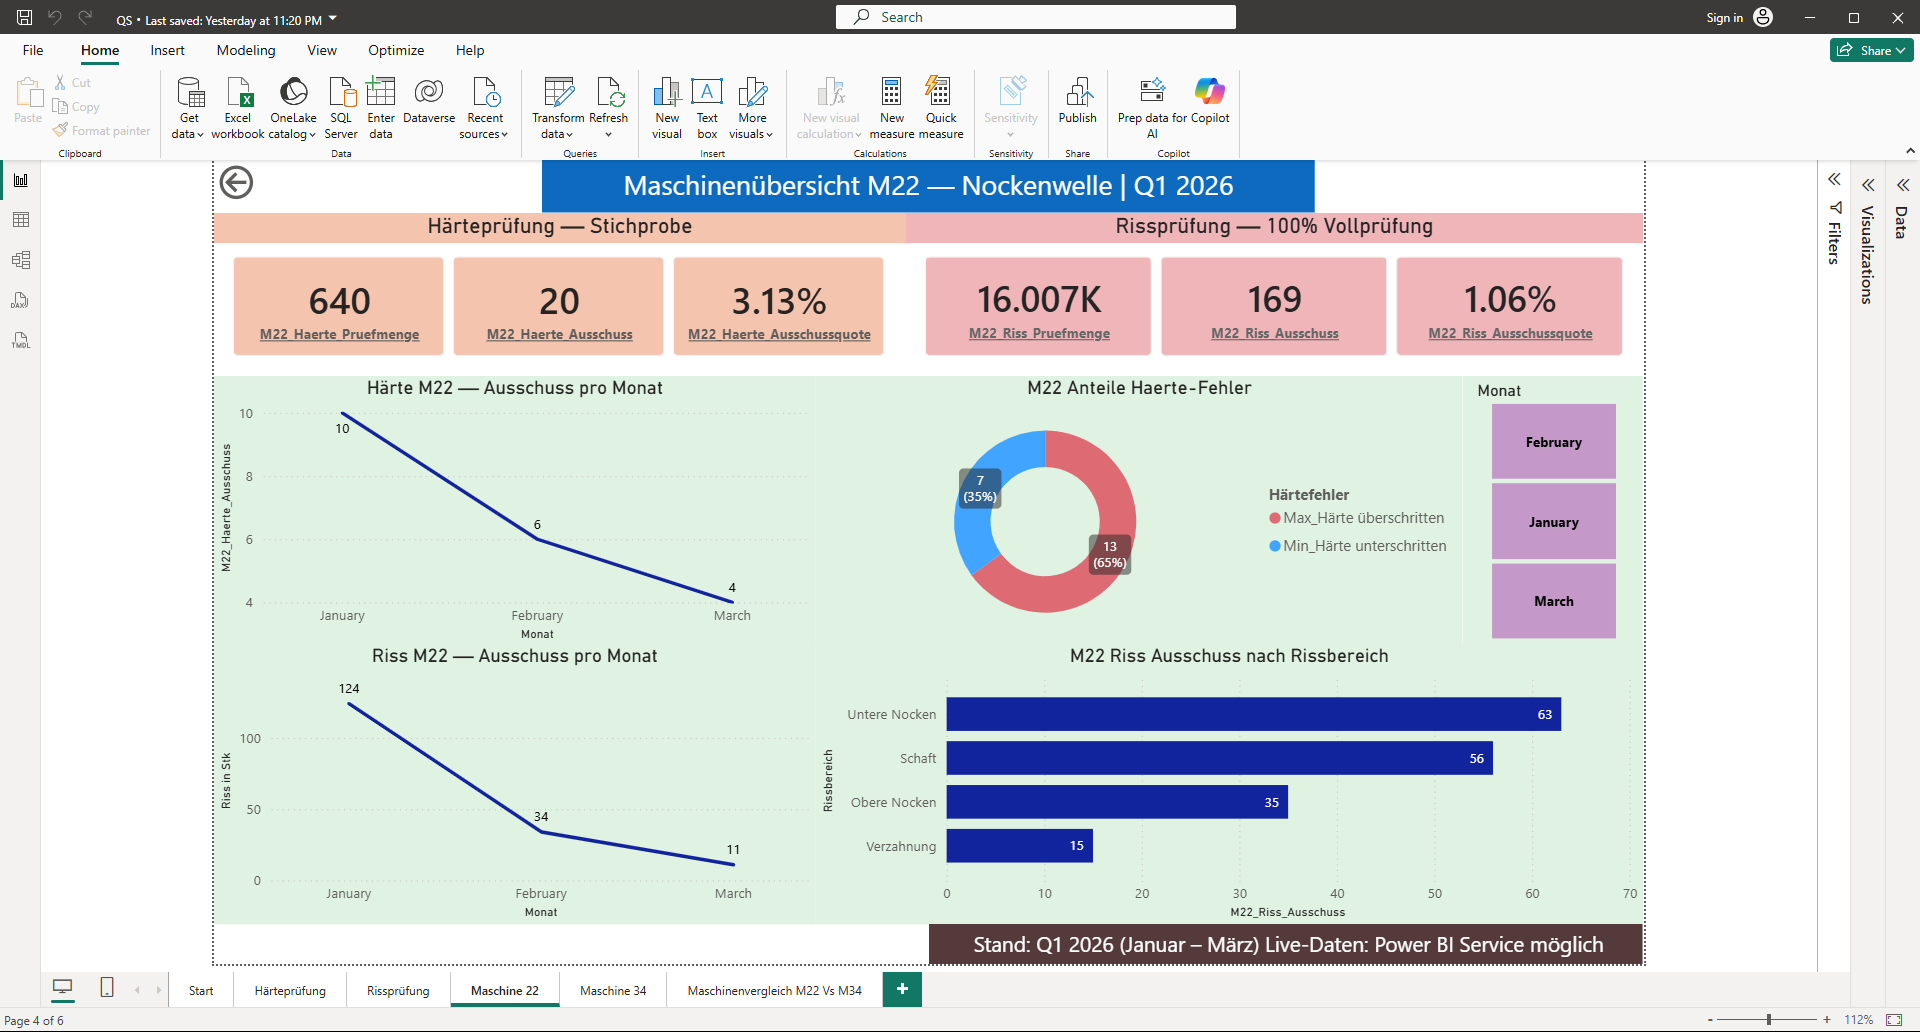

The dashboard page shown, as its layout file describes it:
{"tool":"powerbi","page":{"name":"Maschine 22","canvas":[1280,720],"ordinal":3},"visuals":[{"type":"textbox","box":[293.7,0,692.2,47.5],"z":0},{"type":"cardVisual","title":"Härteprüfung — Stichprobe","fields":{"Data":["Datumstabelle.M22_Haerte_Pruefmenge","Datumstabelle.M22_Haerte_Ausschuss","Datumstabelle.M22_Haerte_Ausschussquote"]},"box":[0,47.5,619.7,146],"z":1000},{"type":"cardVisual","title":"Rissprüfung — 100% Vollprüfung","fields":{"Data":["Datumstabelle.M22_Riss_Pruefmenge","Datumstabelle.M22_Riss_Ausschuss","Datumstabelle.M22_Riss_Ausschussquote"]},"box":[619.7,47.5,660,146],"z":2000},{"type":"lineChart","title":"Härte M22 — Ausschuss pro Monat","fields":{"Category":["Datumstabelle.Date.Variation.Date Hierarchy.Month"],"Y":["Datumstabelle.M22_Haerte_Ausschuss"]},"box":[0,193.4,539.1,241.8],"z":3000},{"type":"lineChart","title":"Riss M22 — Ausschuss pro Monat","fields":{"Y":["Datumstabelle.M22_Riss_Ausschuss"],"Category":["Datumstabelle.Date.Variation.Date Hierarchy.Month"]},"box":[0.3,433.4,539.1,250.7],"z":4000},{"type":"donutChart","title":"M22 Anteile Haerte-Fehler","fields":{"Category":["Härteanlage_M22.n.i.o. Härte_Beschreibung"],"Y":["Datumstabelle.M22_Haerte_Ausschuss"]},"box":[539.1,193.4,579.4,241.8],"z":5000},{"type":"barChart","title":"M22 Riss Ausschuss nach Rissbereich","fields":{"Y":["Datumstabelle.M22_Riss_Ausschuss"],"Category":["Rissprüfung_Für M22.Rissbereich"]},"box":[539.4,433.4,740.6,250.7],"z":6000},{"type":"slicer","fields":{"Values":["Datumstabelle.Monat"]},"box":[1118.5,193.4,161.2,241.8],"z":7000},{"type":"actionButton","box":[0,0,100,40],"z":8000},{"type":"textbox","box":[640.3,684.2,639.4,35.8],"z":9000}]}

Visuals, with their boxes on the page's 1280x720 design canvas (x1, y1, x2, y2). These are canvas units, not pixel positions in the 1920x1032 screenshot, which may show the page scaled, cropped or inside an application window:
textbox: box(294, 0, 986, 48)
"Härteprüfung — Stichprobe" cardVisual: box(0, 48, 620, 194)
"Rissprüfung — 100% Vollprüfung" cardVisual: box(620, 48, 1280, 194)
"Härte M22 — Ausschuss pro Monat" lineChart: box(0, 193, 539, 435)
"Riss M22 — Ausschuss pro Monat" lineChart: box(0, 433, 539, 684)
"M22 Anteile Haerte-Fehler" donutChart: box(539, 193, 1118, 435)
"M22 Riss Ausschuss nach Rissbereich" barChart: box(539, 433, 1280, 684)
slicer - Datumstabelle.Monat: box(1118, 193, 1280, 435)
actionButton: box(0, 0, 100, 40)
textbox: box(640, 684, 1280, 720)
